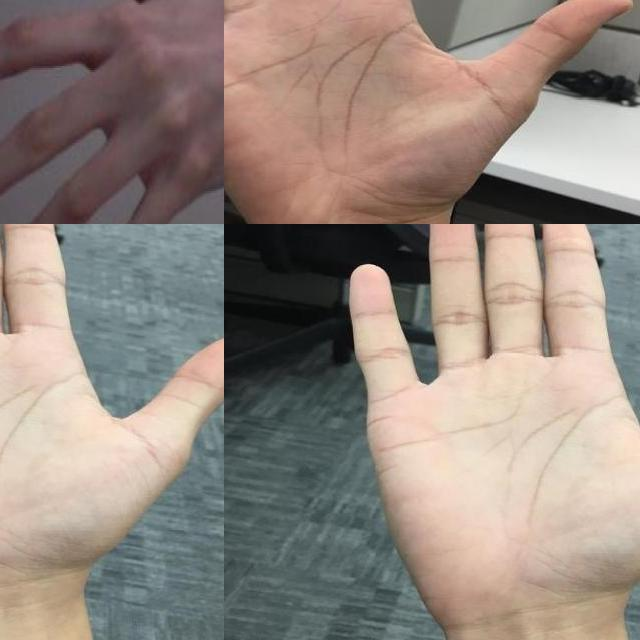hand: (346, 224, 640, 640), (224, 0, 638, 224), (0, 224, 224, 626), (0, 0, 224, 224)
